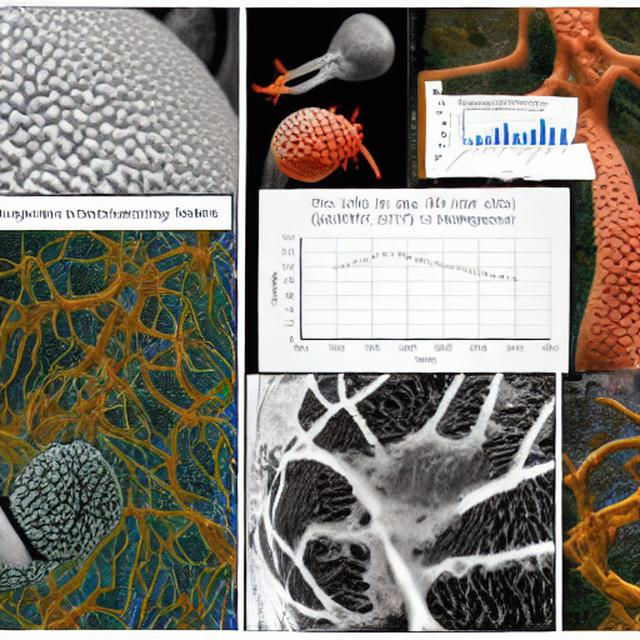Graph: (261, 191, 563, 370), (446, 99, 558, 176)
